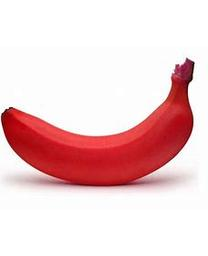banana: (1, 55, 196, 188)
